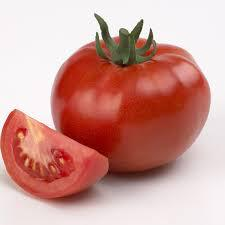tomato: (48, 36, 211, 175)
